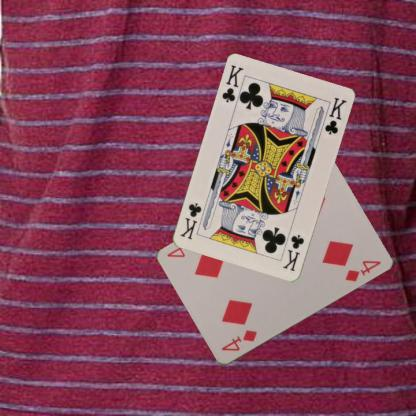4d: (218, 328, 258, 353)
Kc: (280, 232, 306, 272), (220, 63, 245, 104)
